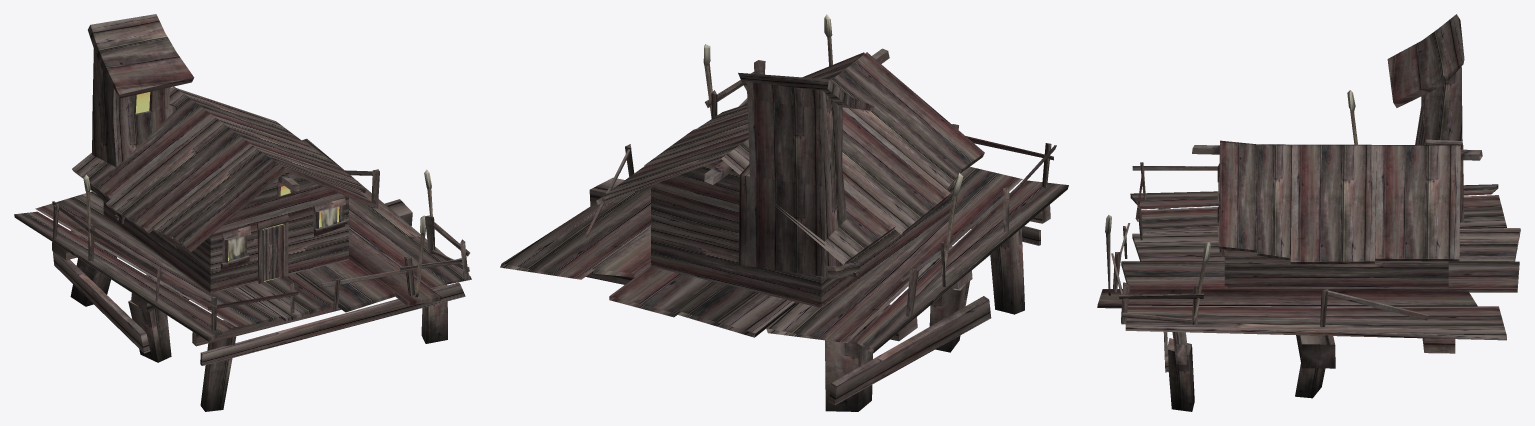
The model's file is pir_m_prp_swm_shack_large.fbx.
3 renders of one model, left to right at view 1: azimuth 30°, elevation 25°; view 2: azimuth 150°, elevation 25°; view 3: azimuth 270°, elevation 25°, orthographic. The views are drawn at different scales.
Visible parts, largest first — view 1: polySurface550, pCube8.001, pasted__roof1, TablePlank25, TablePlank26, pasted__polySurface498, TablePlank30, pCube7.001, TablePlank28, pCube10.001, pCube9.001, polySurface549 (+15 smaller); view 2: pasted__polySurface498, polySurface551, TablePlank25, TablePlank26, pCube8.001, TablePlank30, pCube10.001, TablePlank29, TablePlank11, pCube7.001, pCube9.001, TablePlank14 (+11 smaller); view 3: TablePlank30, pCube8, pCube7, polySurface549, TablePlank14, TablePlank18, TablePlank11, pCube10, pasted__roof1, pCube9, TablePlank25, pasted__polySurface498 (+10 smaller).
Part boxes in pixels (x1,y1,x2,y2): polySurface550: (210, 171, 348, 293); pCube8.001: (106, 116, 252, 233); pasted__roof1: (88, 14, 194, 98); TablePlank25: (35, 191, 280, 326); TablePlank26: (14, 211, 233, 341); pasted__polySurface498: (92, 49, 176, 167); TablePlank30: (302, 138, 471, 287); pCube7.001: (72, 86, 212, 199); TablePlank28: (200, 282, 465, 365); pCube10.001: (173, 157, 286, 252); pCube9.001: (151, 145, 268, 238); polySurface549: (103, 164, 333, 293); pasted__polySurface498: (738, 82, 850, 276); polySurface551: (651, 159, 821, 307); TablePlank25: (766, 166, 1022, 343); TablePlank26: (853, 180, 1068, 353); pCube8.001: (842, 107, 950, 234); TablePlank30: (500, 185, 650, 279); pCube10.001: (842, 52, 984, 173); TablePlank29: (828, 296, 991, 405); TablePlank11: (677, 282, 796, 337); pCube7.001: (721, 139, 895, 264); pCube9.001: (830, 72, 961, 189); TablePlank14: (609, 266, 715, 317); TablePlank30: (1125, 305, 1506, 340); pCube8: (1290, 145, 1376, 264); pCube7: (1375, 145, 1460, 261); polySurface549: (1224, 158, 1448, 288); TablePlank14: (1121, 261, 1519, 292); TablePlank18: (1097, 289, 1477, 308); TablePlank11: (1132, 228, 1520, 261); pCube10: (1218, 142, 1258, 252); pasted__roof1: (1387, 14, 1464, 107); pCube9: (1257, 145, 1292, 260); TablePlank25: (1141, 195, 1506, 233); pasted__polySurface498: (1415, 66, 1463, 222).
Size of the model in its own units: 4723 by 4127 by 5348.
2 materials, 2 textured.
